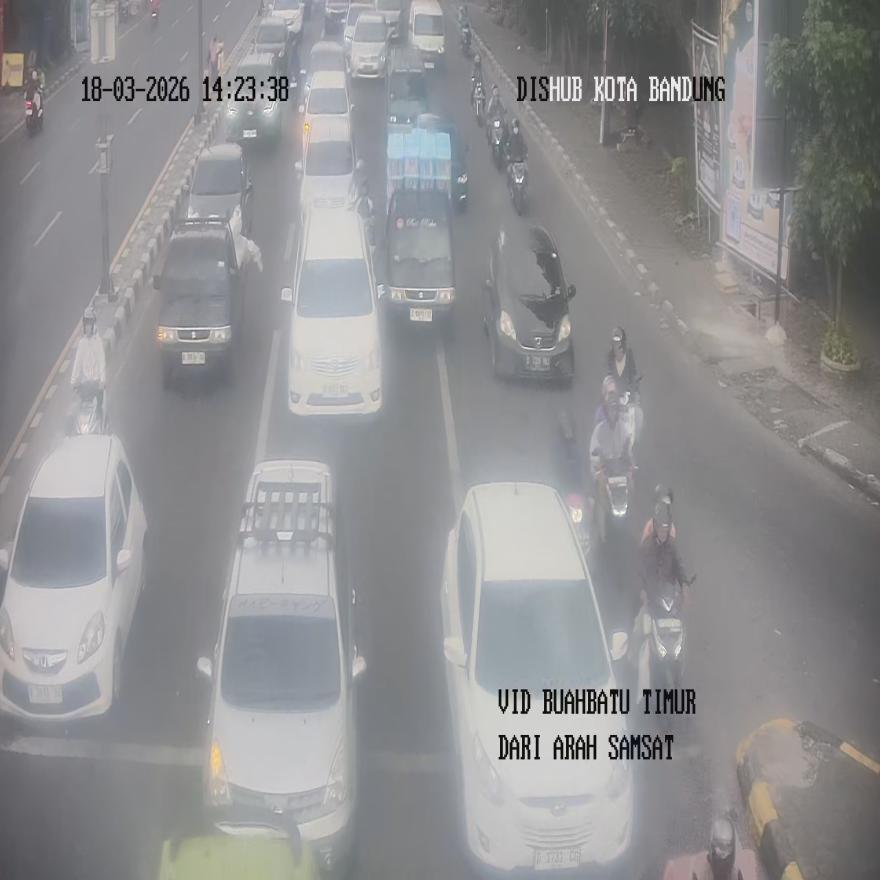Motor: (441, 481, 633, 874), (196, 459, 366, 871), (0, 432, 148, 722), (281, 199, 384, 416), (381, 124, 459, 323), (152, 214, 244, 382), (484, 222, 576, 379), (183, 141, 253, 238)
Truk: (632, 570, 695, 730), (71, 308, 105, 433), (594, 451, 634, 541), (72, 378, 104, 435), (507, 158, 528, 215), (489, 116, 507, 167), (25, 85, 42, 134), (472, 82, 484, 126), (460, 21, 472, 58), (149, 0, 159, 24)
